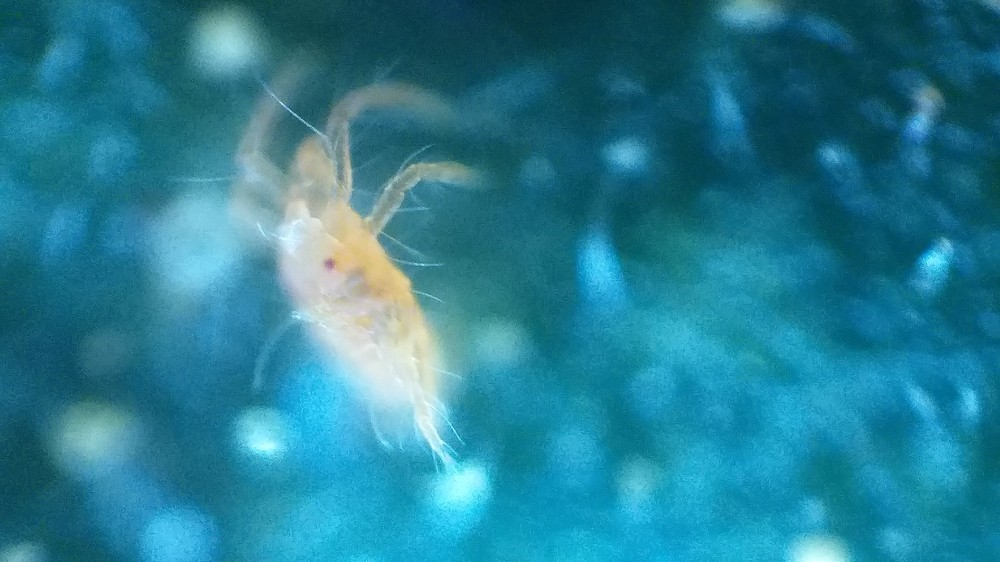Aracnido Rojo: (197, 67, 527, 474)
